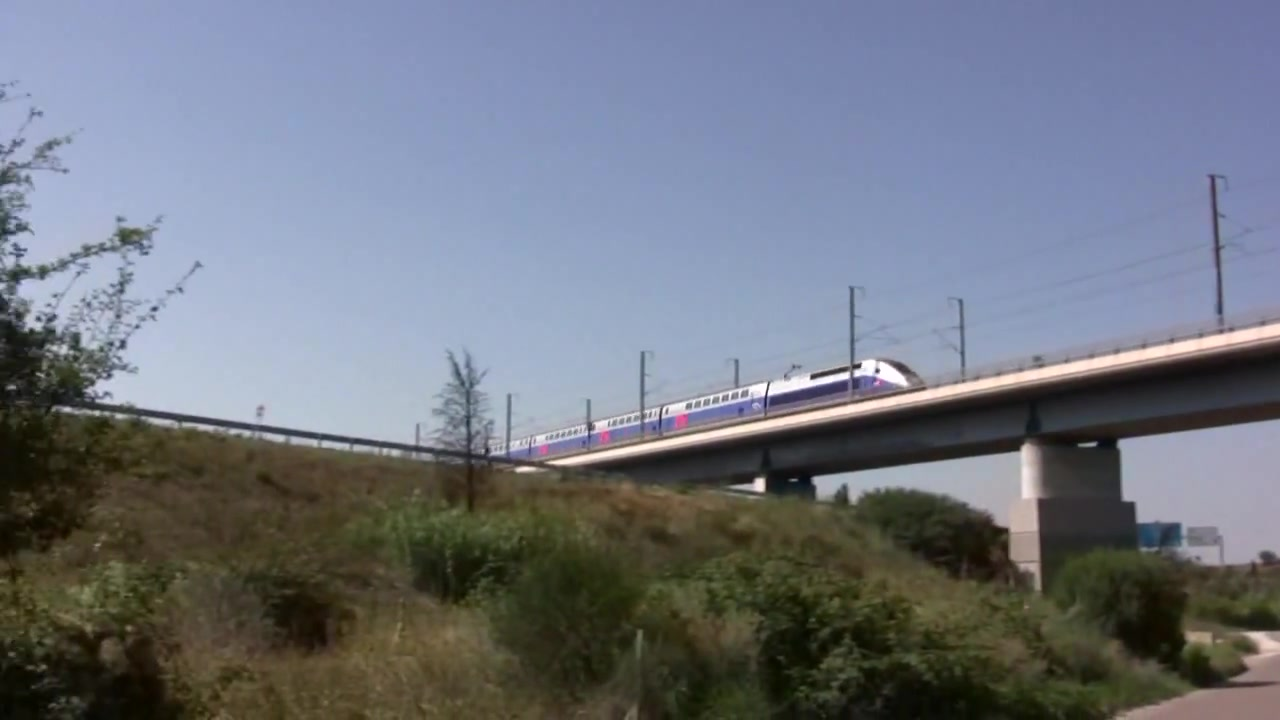train: (481, 356, 928, 467)
